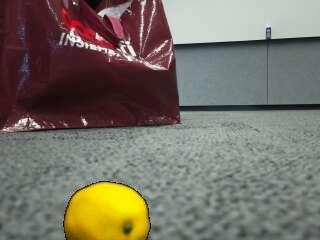lemon: (65, 184, 149, 240)
